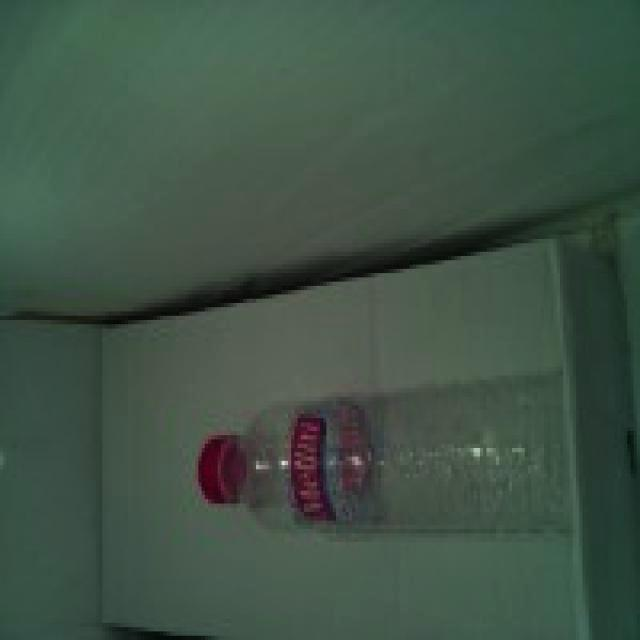bottle: (198, 374, 573, 538)
